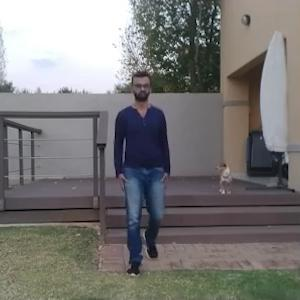follow: (113, 70, 163, 269)
